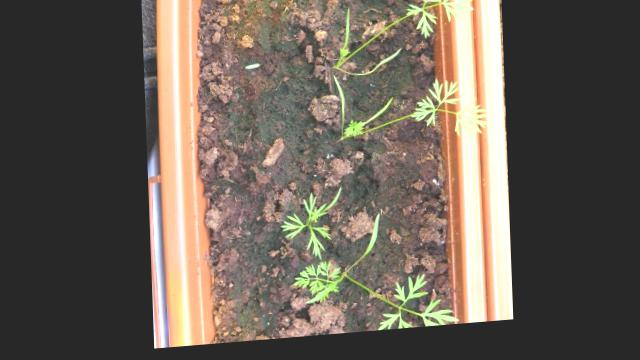crop: (277, 186, 343, 268)
